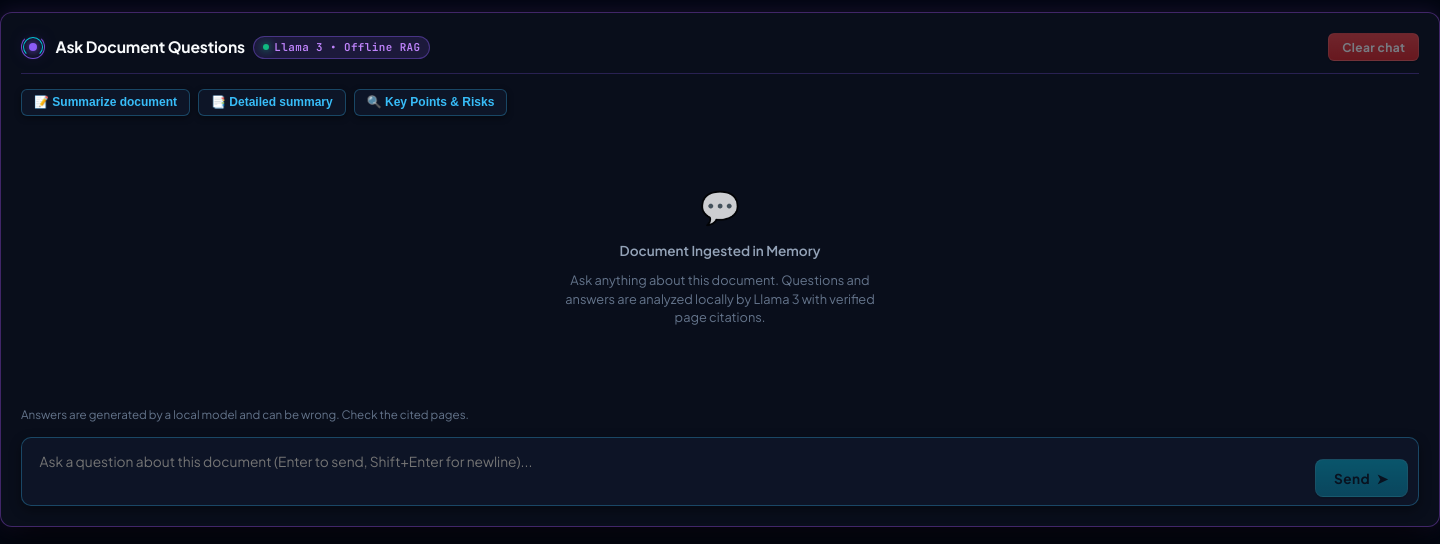
Test: ChatPanel Component Security & Interaction Tests › Clear chat button invokes history DELETE endpoint on the local AI service
Populate a message
Replace the text in the text box with placeholder "Ask a question about this document" with "Question for clear test" at point(668, 472), box [32, 446, 1304, 497]
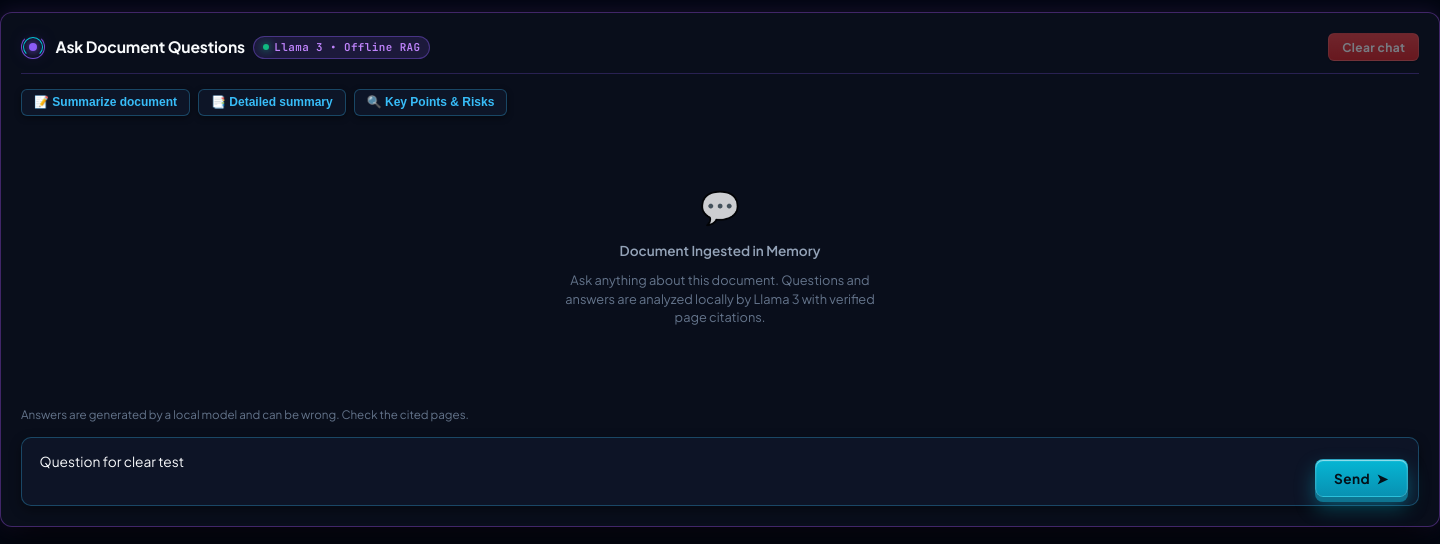
Click the button with aria-label "Send question" at point(1361, 478), box [1315, 459, 1408, 497]
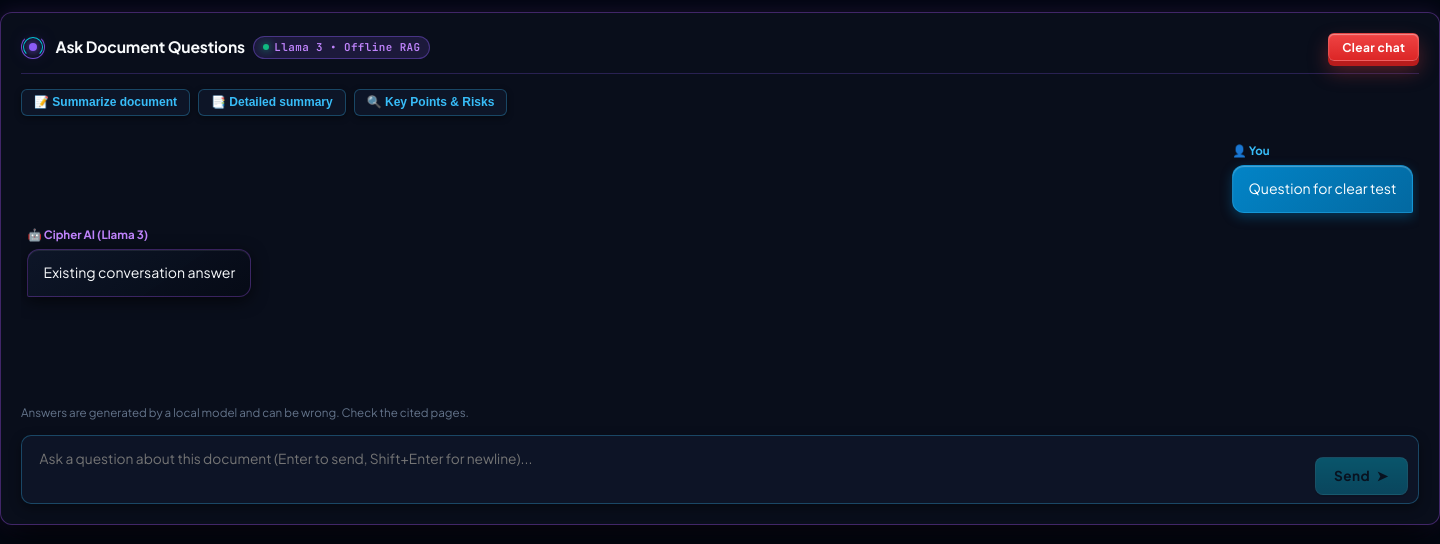
Click Clear chat
Click the button "Clear chat" at point(1374, 47), box [1328, 33, 1419, 61]
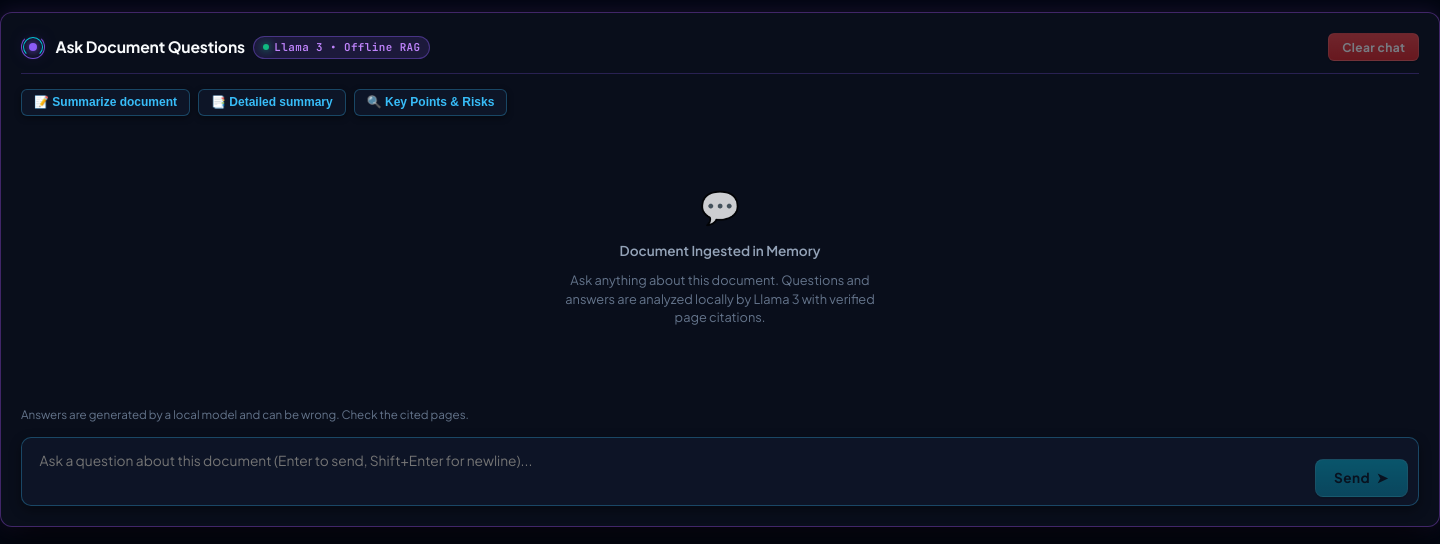
expect the text "Existing conversation answer" is not shown: met
